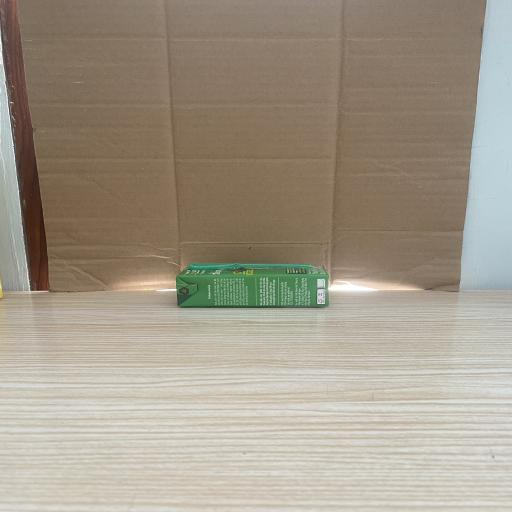milo: (176, 263, 329, 307)
